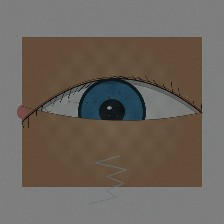foreign_body_visible: (135, 119, 158, 137)
